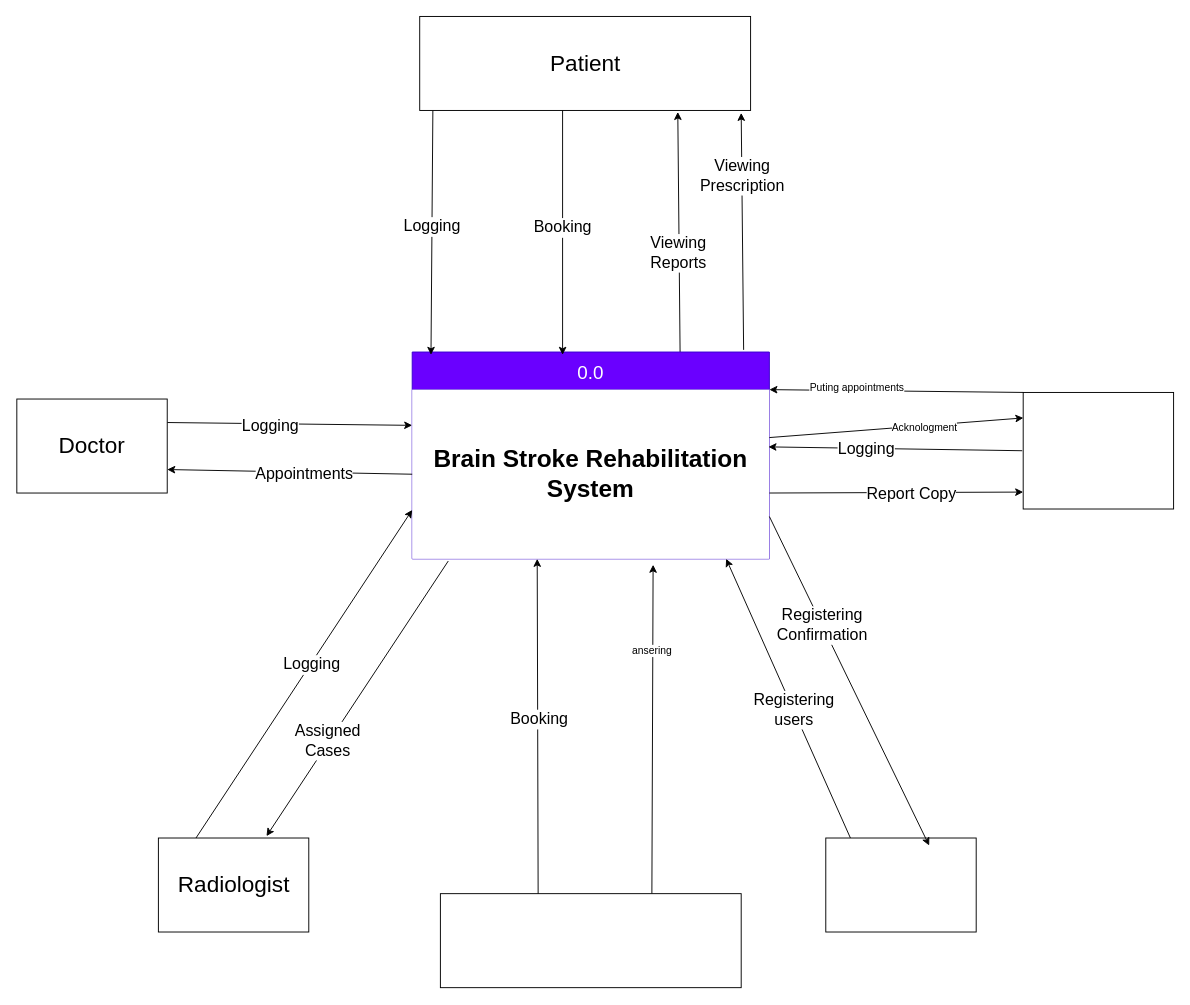
Image size: 1190x1005. Some labels were removed from this diagram. The shapes that lost their labels are listed below. From the top down, each one's centre as x and y in pixels, then its label:
At pixel 1098 450: "Radiology Center".
At pixel 900 884: "Receptionist".
At pixel 590 940: "Guest".
